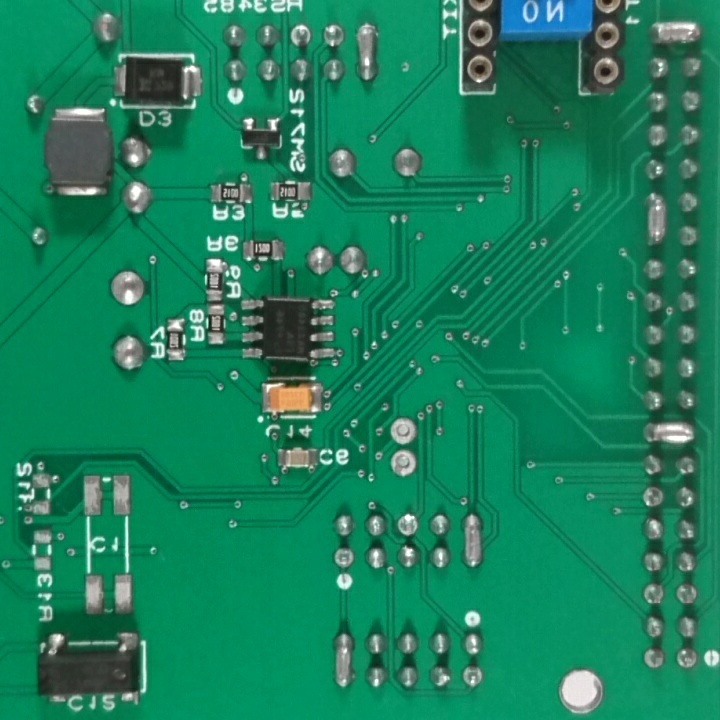F: (388, 451, 419, 480), (388, 415, 416, 447), (673, 645, 704, 672), (674, 578, 698, 610), (461, 665, 487, 694), (286, 24, 314, 50), (641, 483, 665, 512), (396, 511, 419, 541), (330, 545, 355, 571)
P: (353, 21, 384, 89), (643, 17, 704, 48), (329, 629, 359, 692), (459, 509, 487, 574), (641, 418, 699, 449), (643, 189, 669, 251)
